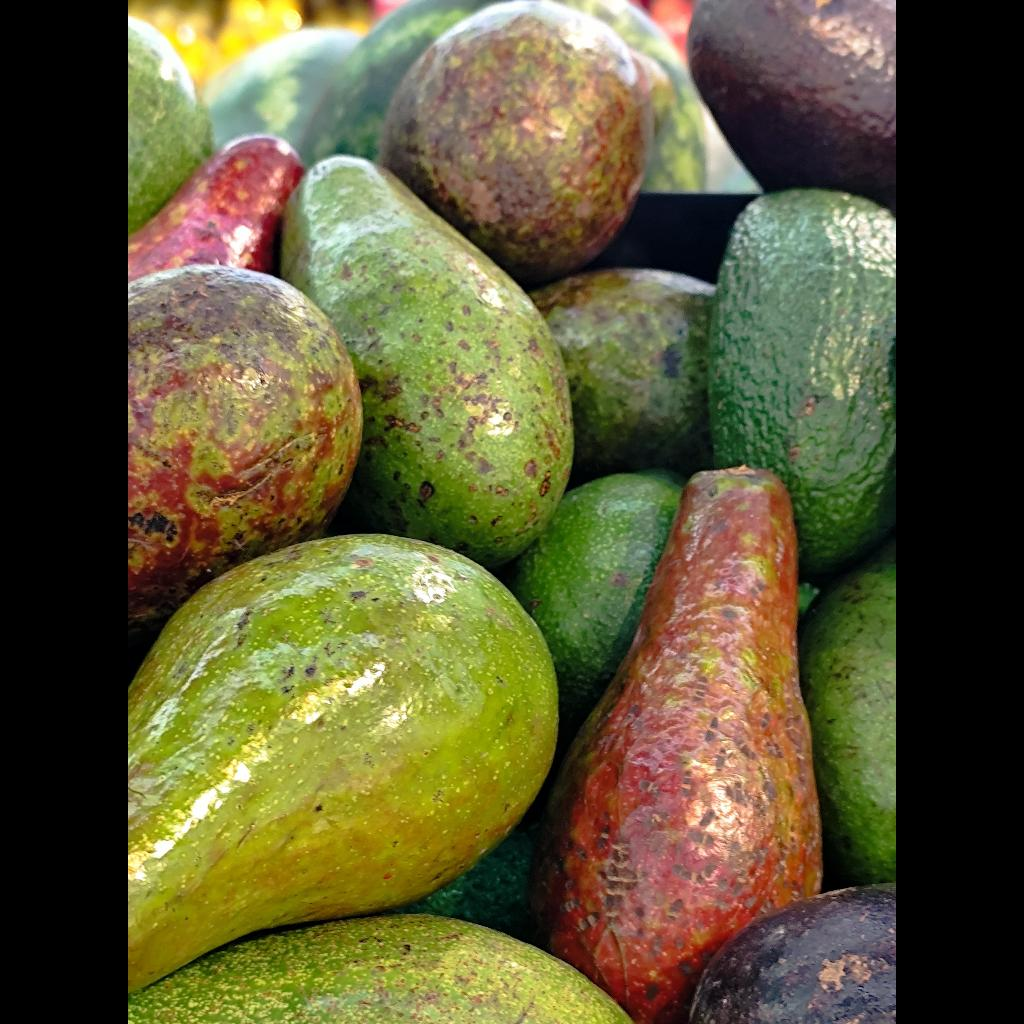antracnosis_fruto: (530, 467, 821, 1024), (128, 265, 362, 642), (378, 0, 654, 285), (128, 134, 303, 281)
rona: (282, 156, 573, 568)
